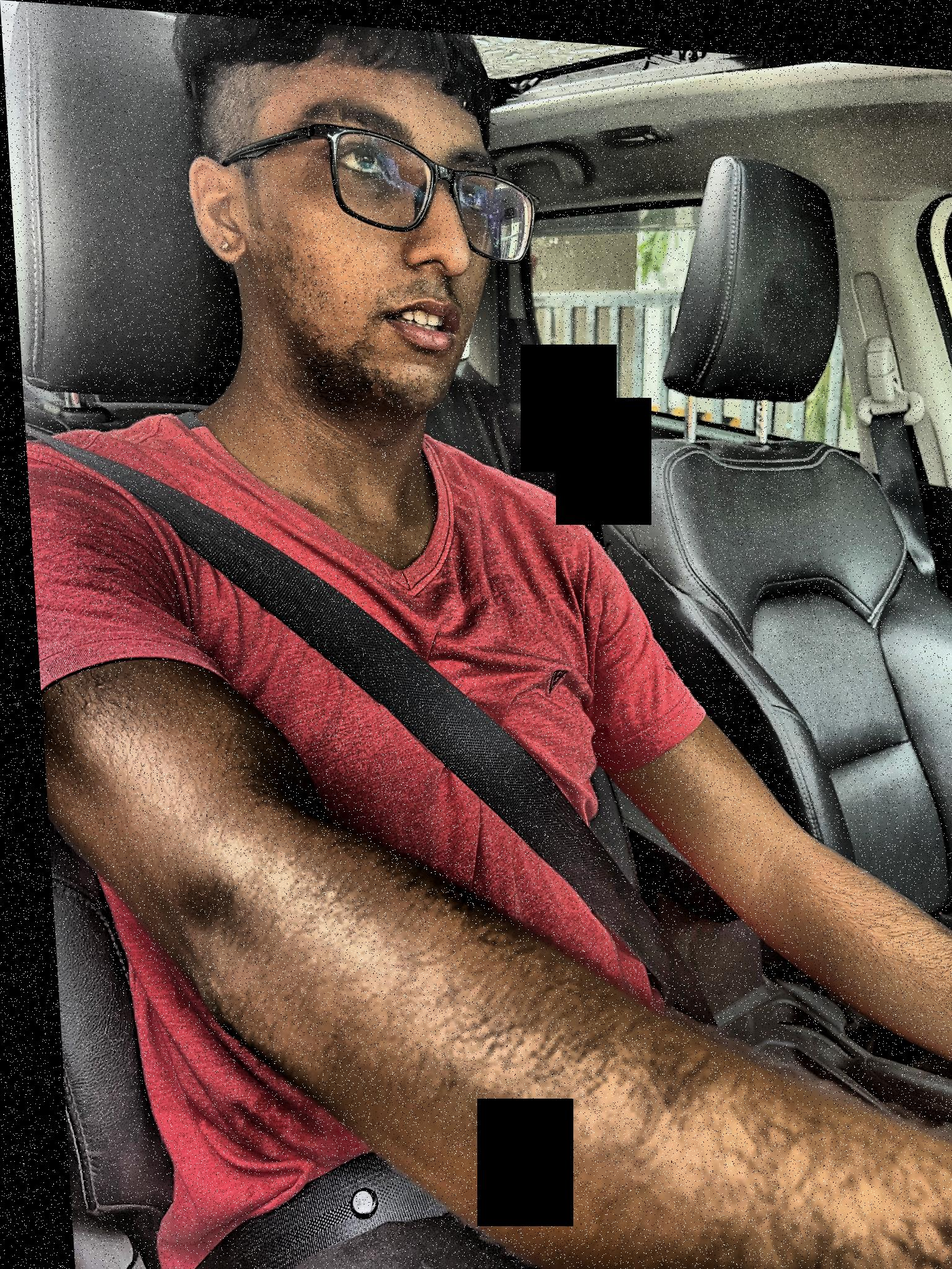seatbelt: (26, 367, 722, 1139)
